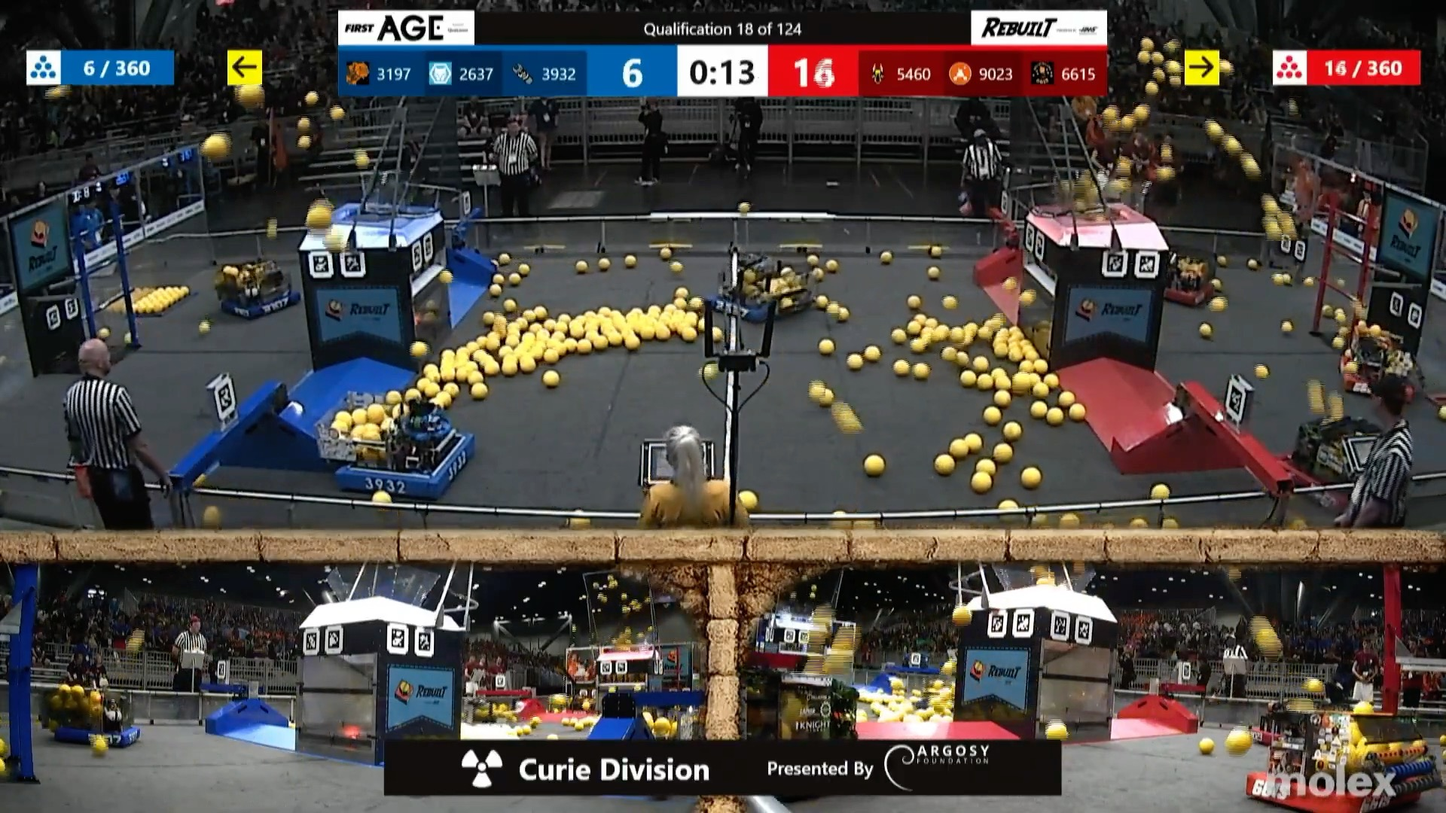bumpers: (1236, 759, 1437, 813), (334, 437, 479, 500), (1335, 349, 1421, 413), (50, 713, 154, 752), (213, 285, 310, 321), (699, 292, 796, 324), (1152, 280, 1220, 306)
